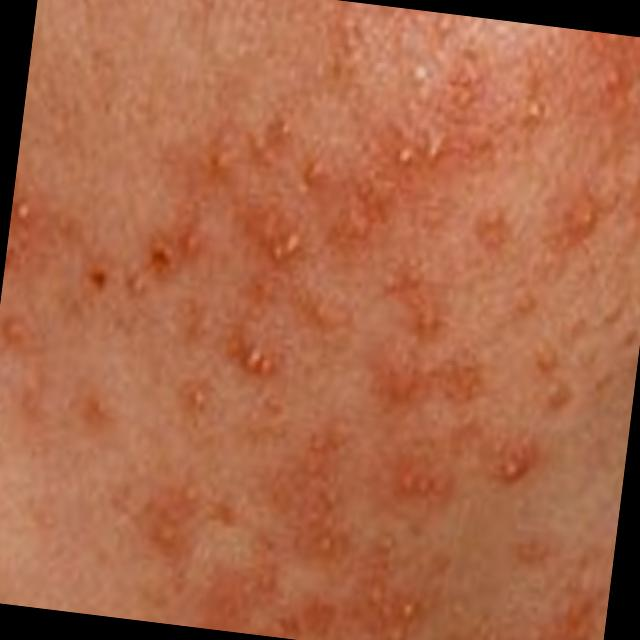blackhead: (143, 239, 180, 275), (86, 260, 110, 293)
